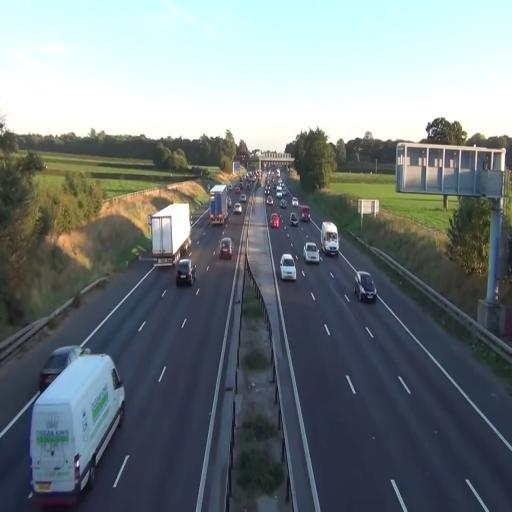vehicle: (28, 348, 126, 497), (149, 202, 191, 265), (208, 190, 227, 226), (320, 220, 339, 256), (356, 270, 377, 302), (280, 252, 297, 281), (176, 259, 194, 286), (218, 236, 233, 260), (304, 240, 320, 262), (289, 206, 300, 226), (299, 206, 311, 221), (270, 213, 281, 229)
